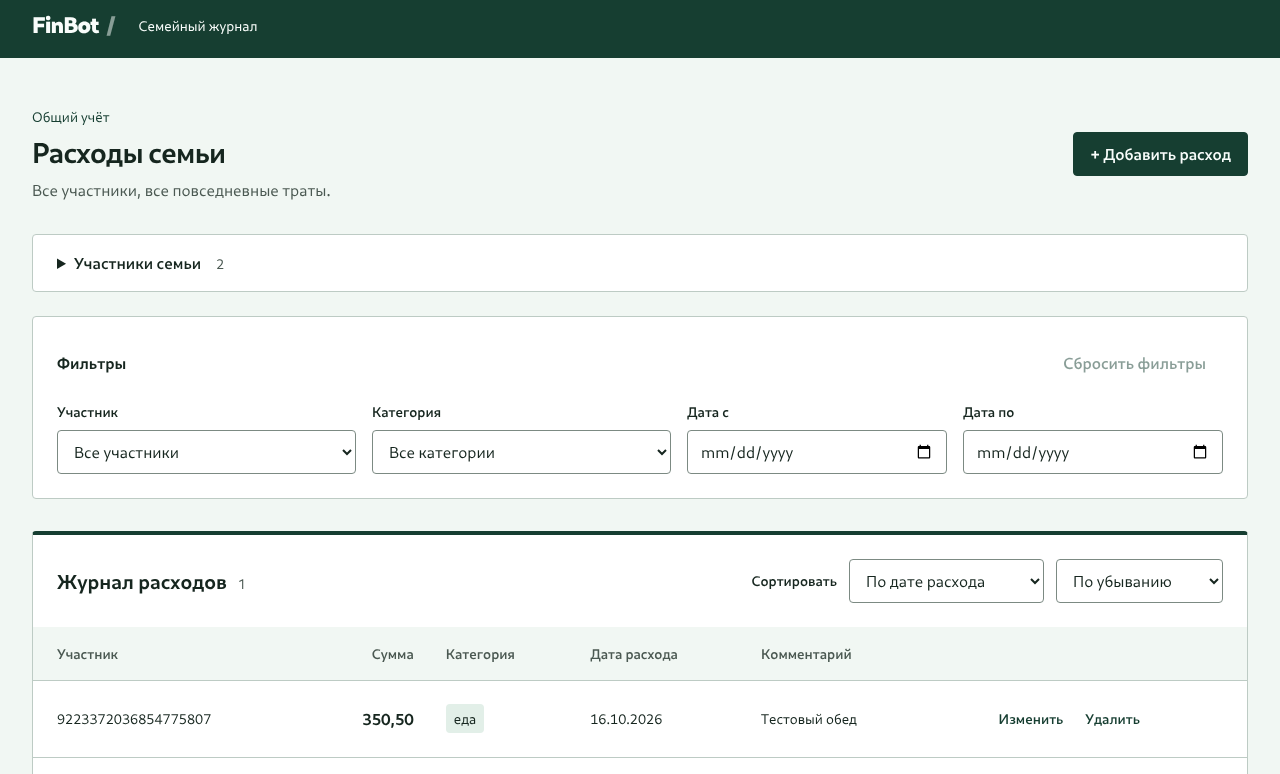
Test: expense journal › creates an expense with a new owner and an exact decimal string, then refreshes members/list
expect the text "Тестовый обед" is shown: met, box [745,681,974,757]
Step 1. Click the button "+ Добавить расход" → [1161, 154], box [1073,132,1248,176]
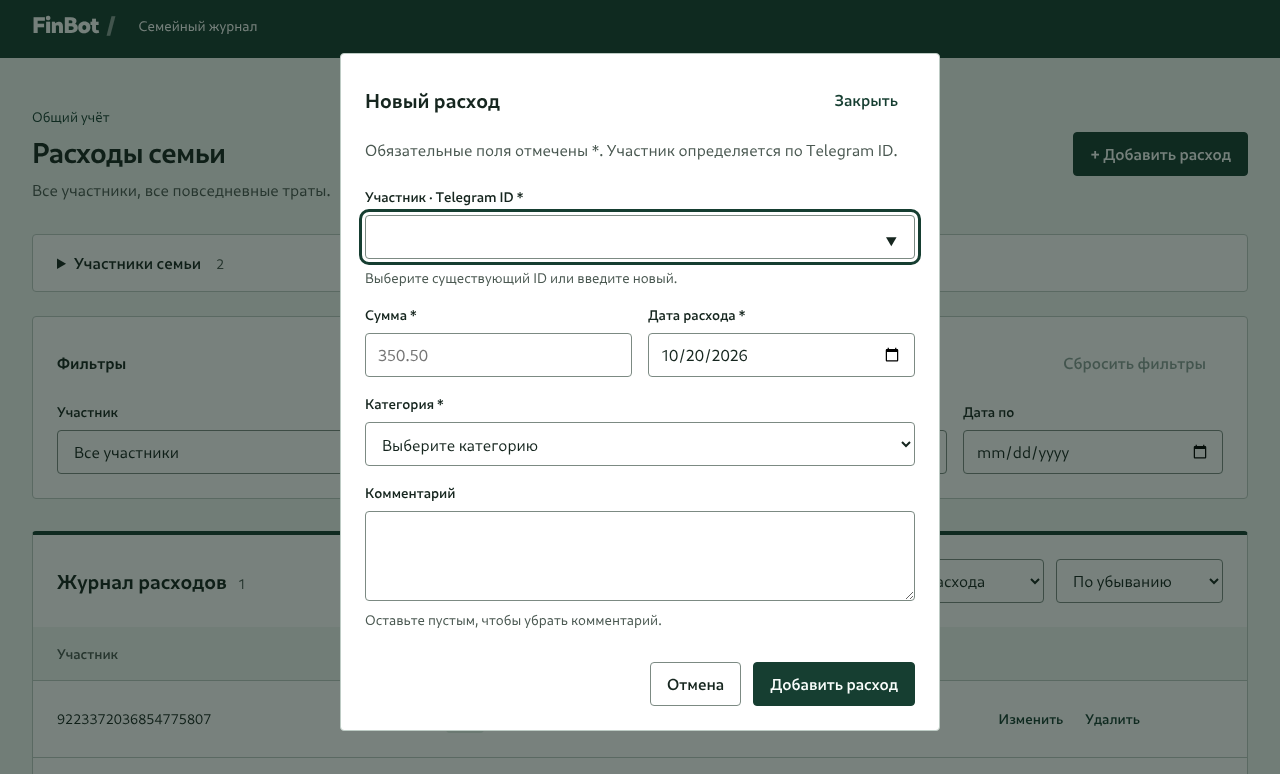
Step 2. Type "303" into the field labelled "Участник · Telegram ID *" → [640, 237], box [365,215,915,259]
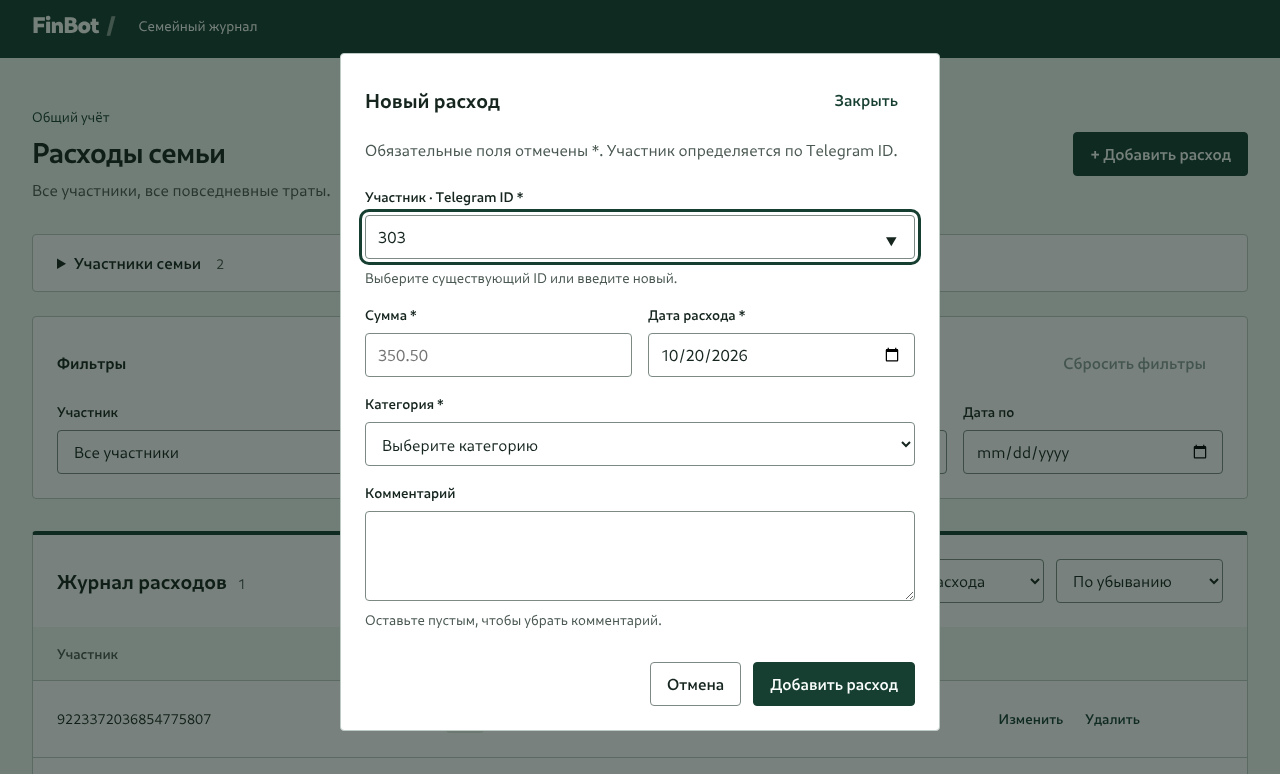
Step 3. Type "999999999999.99" into the field labelled "Сумма *" → [498, 355], box [365,333,632,377]
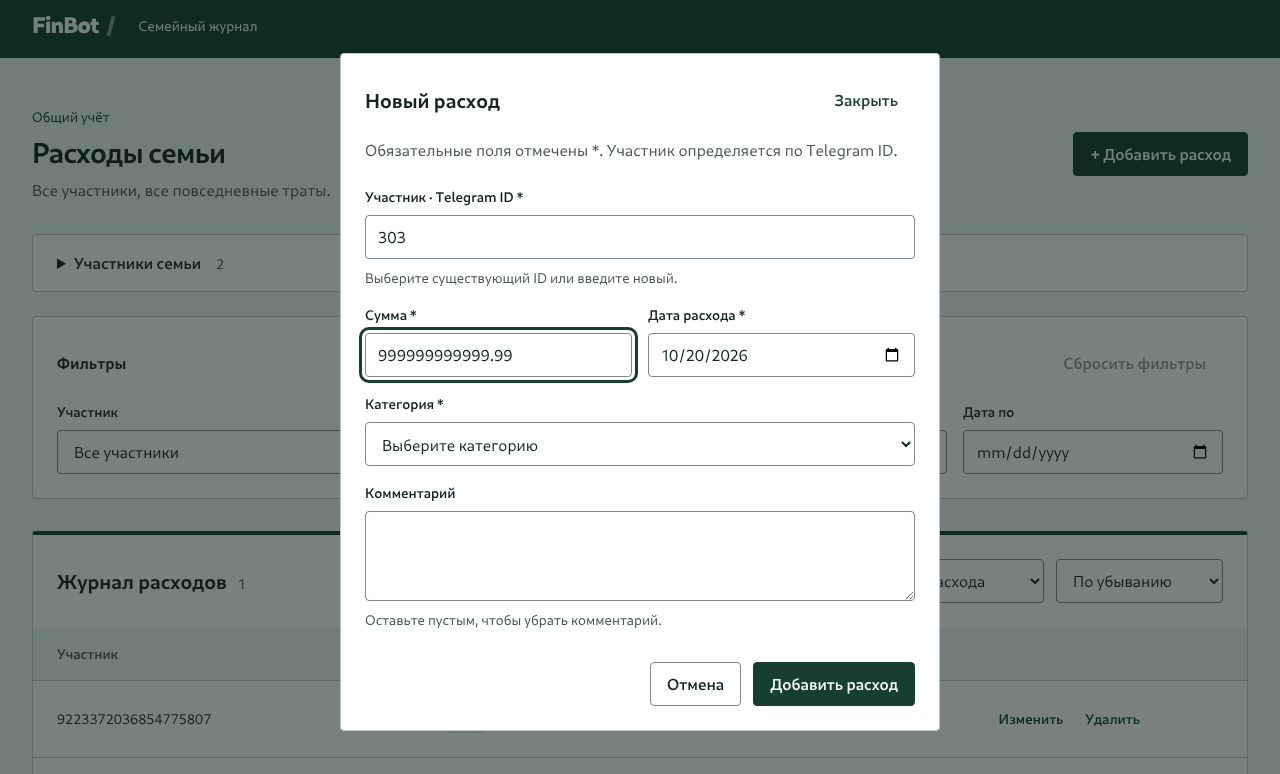
Step 4. Select "транспорт" in the dropdown labelled "Категория *" → [640, 444], box [365,422,915,466]
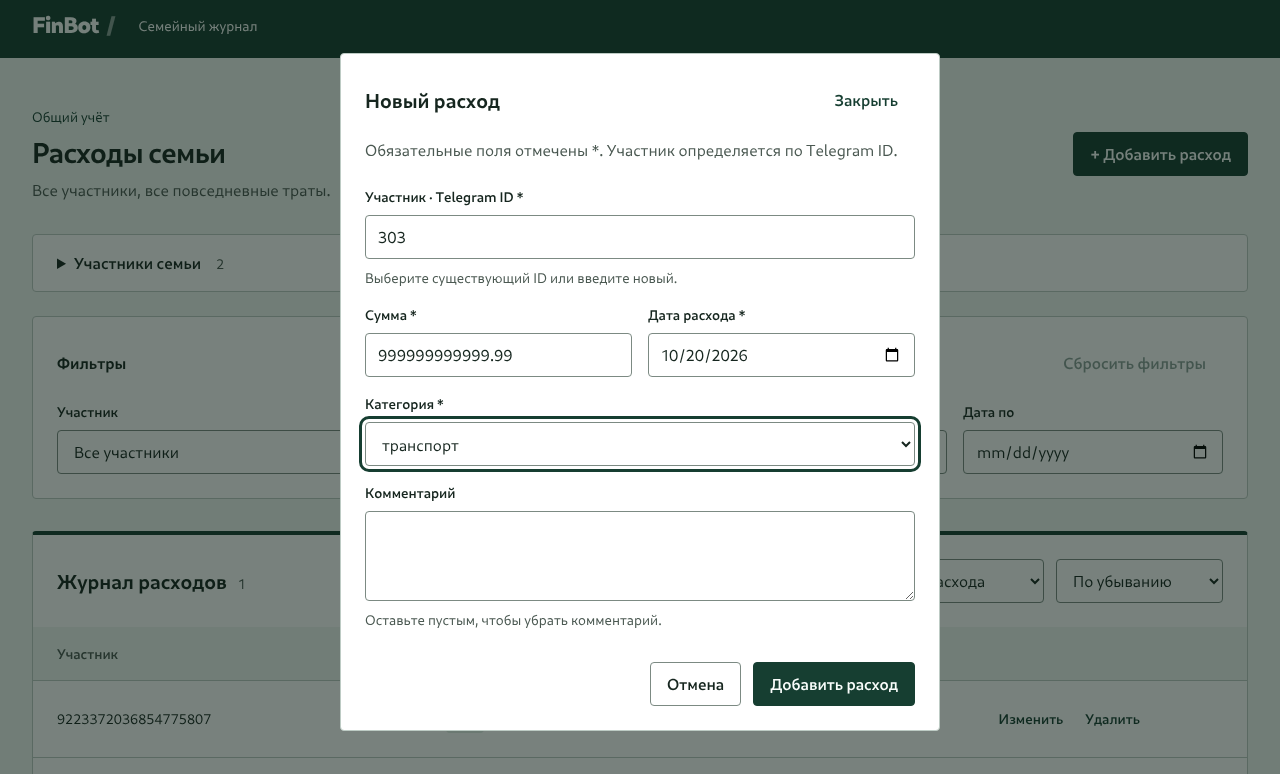
Step 5. Type "2024-02-29" into the date field labelled "Дата расхода *" → [782, 355], box [648,333,915,377]
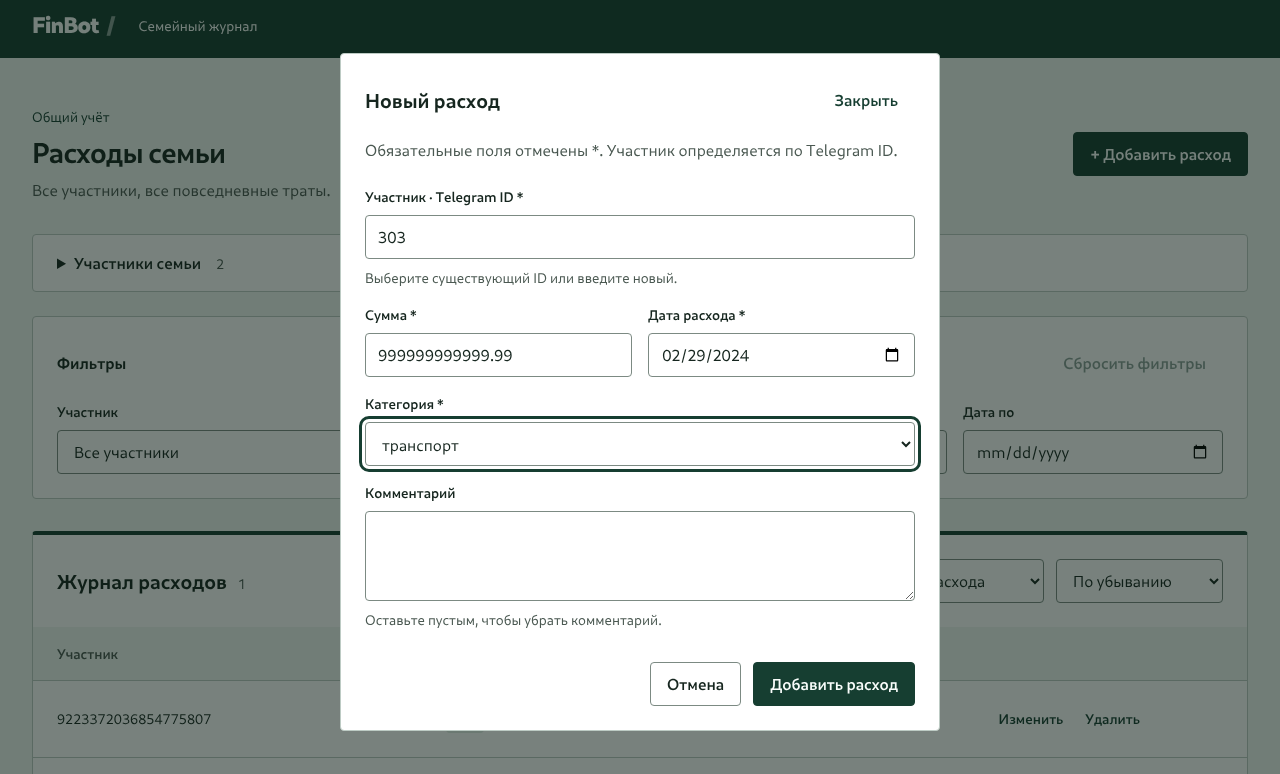
Step 6. Click the button "Добавить расход" → [834, 684], box [753,662,915,706]
(page scrolled)
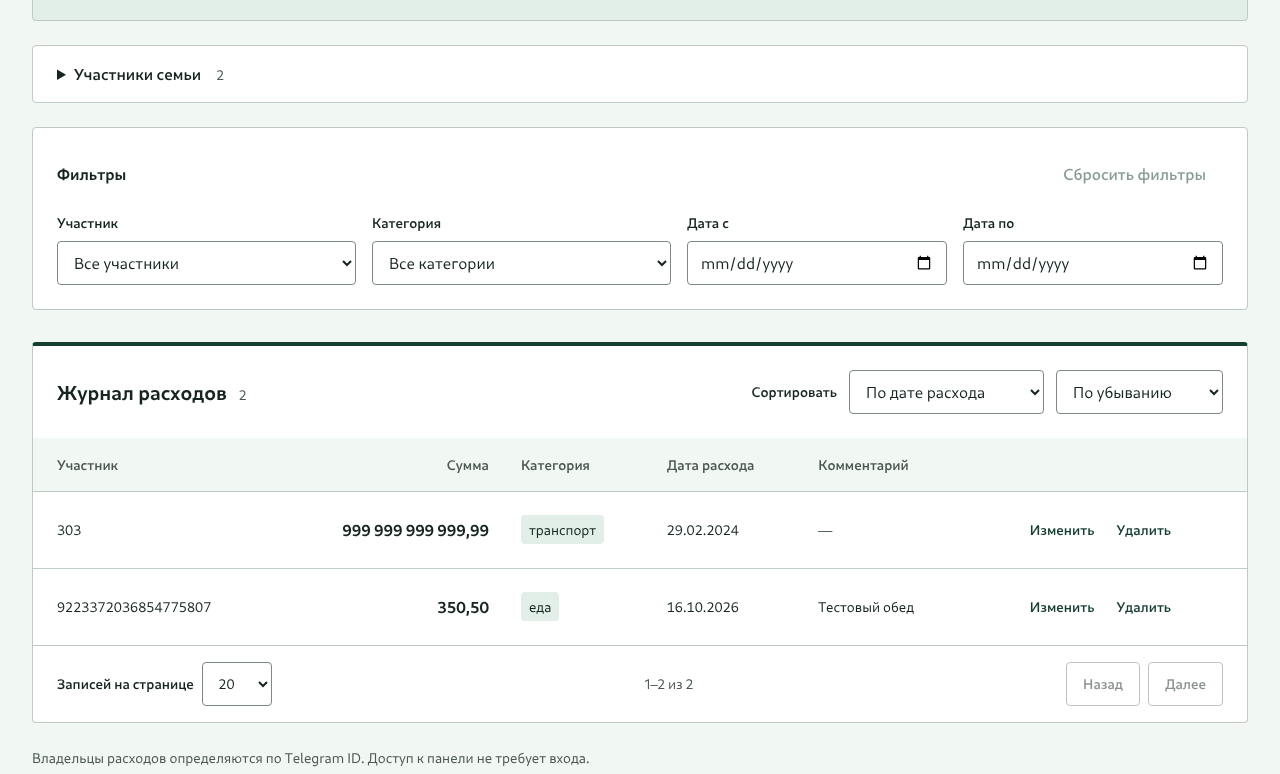
expect the cell "999 999 999 999,99" is shown: met, box [279,492,505,568]
